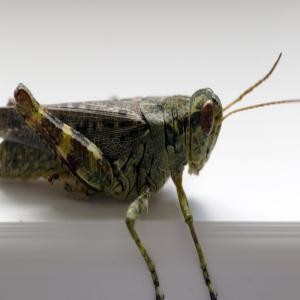locust: (1, 82, 243, 216)
